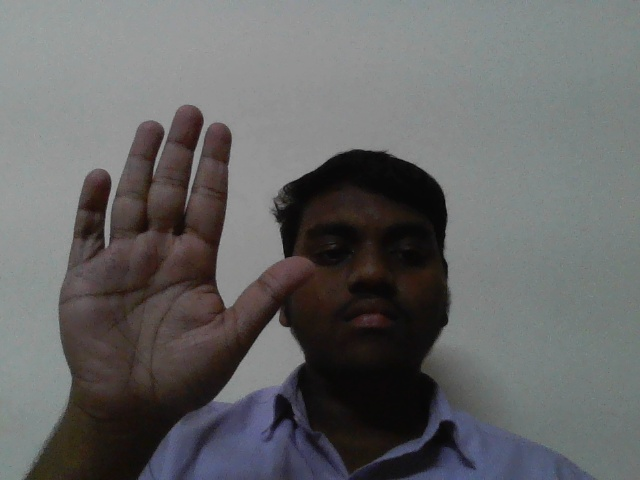Hello: (51, 90, 323, 407)
